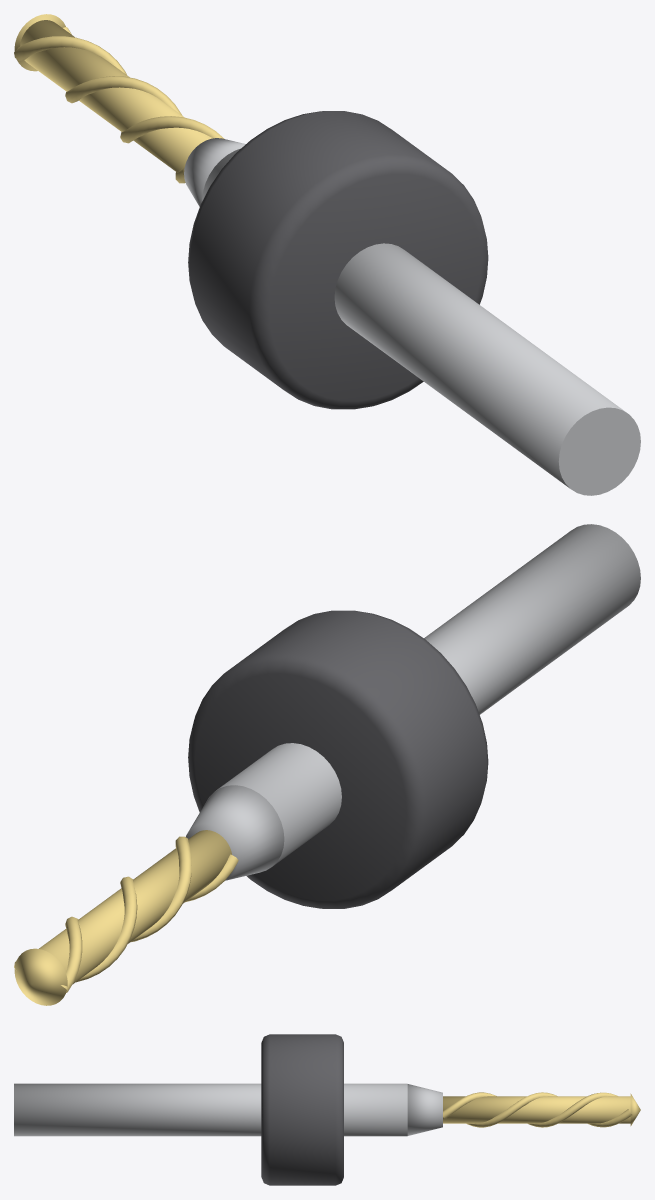
File: drill18_2p1.glb
3 renders of one model, top to bottom at view 1: azimuth 30°, elevation 25°; view 2: azimuth 150°, elevation 25°; view 3: azimuth 270°, elevation 25°, orthographic. The views are drawn at different scales.
Visible parts, largest first — view 1: Cylinder.002, Cylinder.001, Cylinder, flute, Cone, flute.001; view 2: Cylinder.002, Cylinder.001, Cylinder, Cone, Cone.001, flute, flute.001; view 3: Cylinder.001, Cylinder.002, Cylinder, Cone, flute, flute.001.
Part boxes in pixels (x1,y1,x2,y2): Cylinder.002: [188, 111, 488, 409]; Cylinder.001: [202, 148, 640, 495]; Cylinder: [20, 20, 212, 174]; flute: [14, 36, 224, 143]; Cone: [184, 138, 245, 206]; flute.001: [63, 27, 185, 183]; Cylinder.002: [188, 610, 488, 908]; Cylinder.001: [216, 524, 640, 865]; Cylinder: [39, 830, 231, 984]; Cone: [186, 785, 284, 880]; Cone.001: [14, 948, 67, 1005]; flute: [61, 836, 191, 992]; flute.001: [14, 854, 238, 982]; Cylinder.001: [14, 1083, 407, 1136]; Cylinder.002: [261, 1034, 343, 1185]; Cylinder: [443, 1096, 630, 1123]; Cone: [407, 1084, 442, 1135]; flute: [443, 1092, 617, 1127]; flute.001: [466, 1092, 632, 1127].
Size of the model in its own units: 0.00917 by 0.00917 by 0.038.
